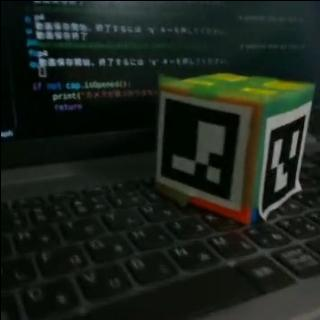armor: (156, 90, 252, 208), (261, 100, 309, 216)
robot: (155, 68, 310, 222)
